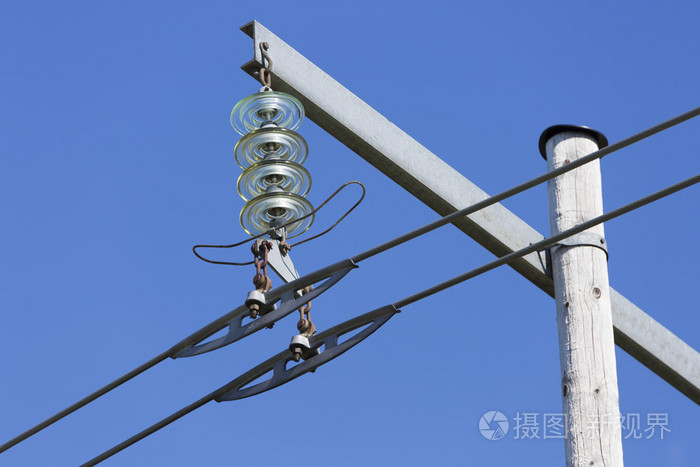insulator: (230, 91, 313, 240)
